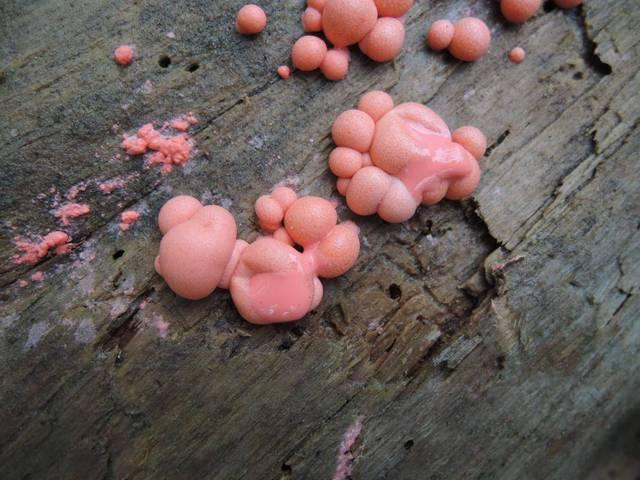poisonous_mushroom: (153, 88, 487, 324), (154, 186, 361, 325), (327, 89, 487, 223), (153, 198, 237, 300), (229, 235, 322, 325), (234, 3, 266, 35), (113, 44, 133, 65)
